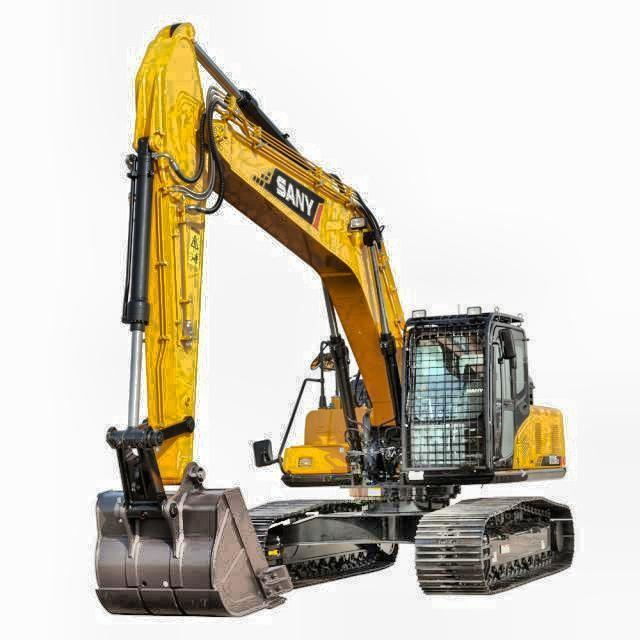excavator: (89, 26, 576, 618)
